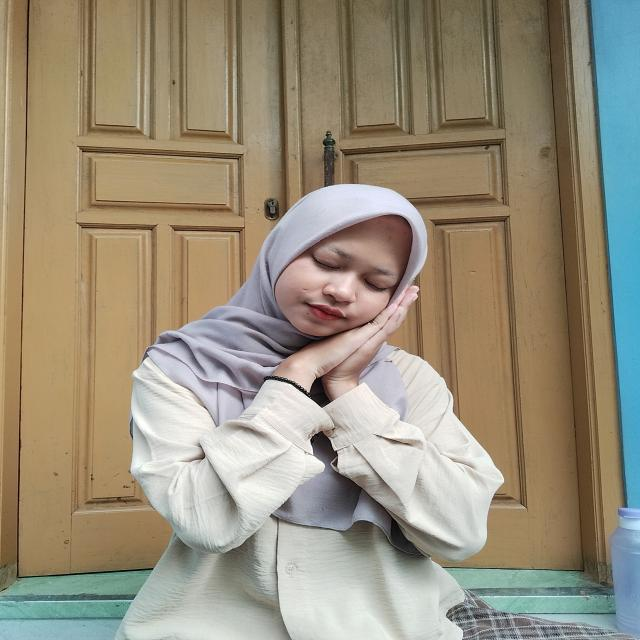tidur: (242, 282, 428, 430)
